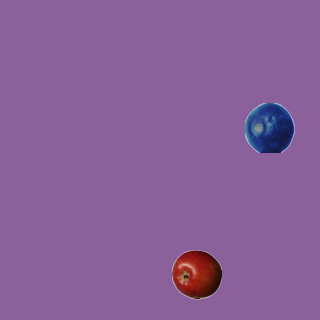Apple Braeburn: (171, 249, 221, 299)
Huckleberry: (244, 102, 294, 152)
